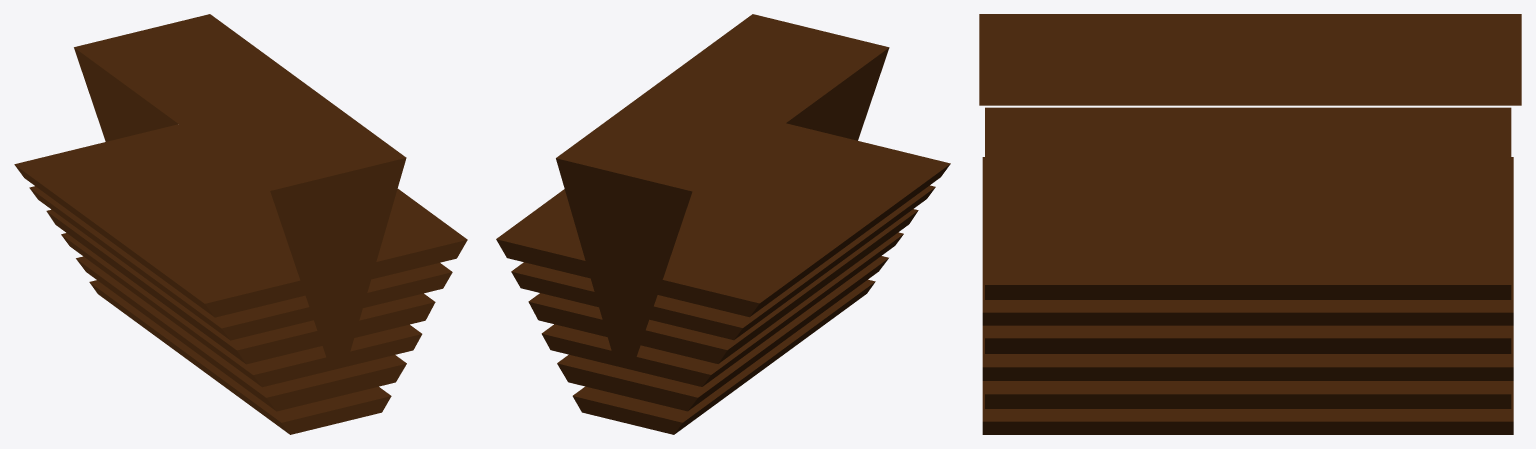
The model's file is chevron_7.obj.
3 views of the same model, side by side, from view 1: azimuth 30°, elevation 25°; view 2: azimuth 150°, elevation 25°; view 3: azimuth 270°, elevation 25° (orthographic). The views are drawn at different scales.
Parts seen in each view (by area): view 1: chevron_7; view 2: chevron_7; view 3: chevron_7.
Boxes of the visible parts, bbox=[...] form: chevron_7: bbox=[14, 14, 467, 434]; chevron_7: bbox=[496, 14, 950, 434]; chevron_7: bbox=[979, 14, 1521, 434].
Size of the model in its own units: 0.2742 by 0.2491 by 0.3548.
